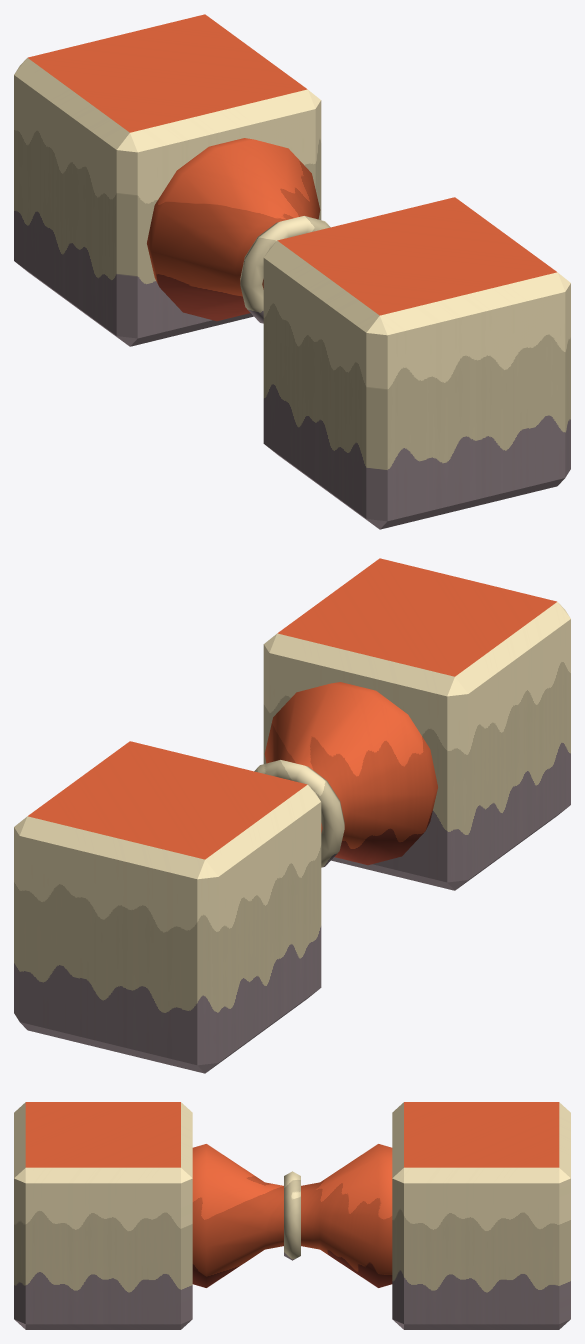
The model's file is R4C_STRUT_STANDARD_LOD1.glb.
The picture shows the model from 3 angles, top to bottom: view 1: azimuth 30°, elevation 25°; view 2: azimuth 150°, elevation 25°; view 3: azimuth 270°, elevation 25°; orthographic projection. The views are drawn at different scales.
Parts seen in each view (by area): view 1: R4C_STRUT_STANDARD_LOD1; view 2: R4C_STRUT_STANDARD_LOD1; view 3: R4C_STRUT_STANDARD_LOD1.
Part boxes in pixels (left/top/right/bottom): R4C_STRUT_STANDARD_LOD1: left=14, top=14, right=570, bottom=529; R4C_STRUT_STANDARD_LOD1: left=14, top=558, right=570, bottom=1073; R4C_STRUT_STANDARD_LOD1: left=14, top=1102, right=570, bottom=1329.
Size of the model in its own units: 0.52 by 0.52 by 1.62.
Materials: 2 (2 with a texture image).
